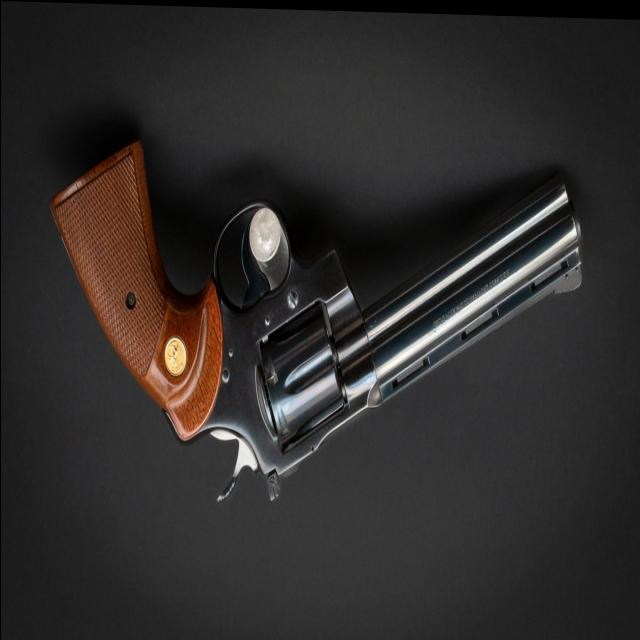handgun: (43, 83, 579, 521)
